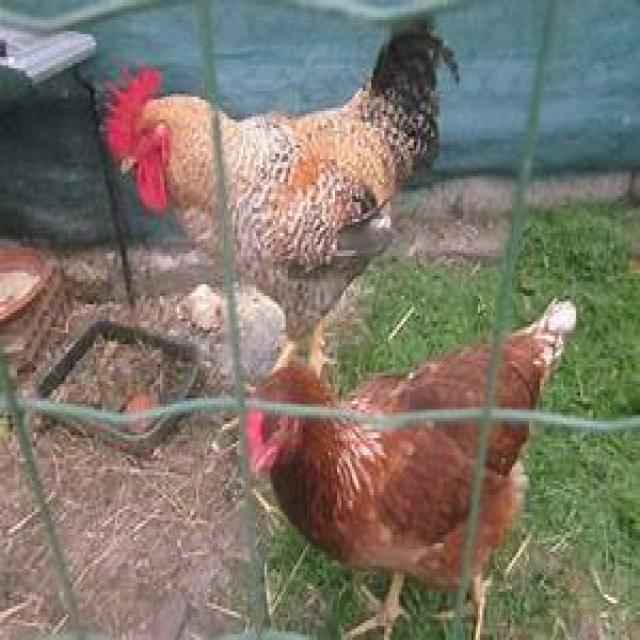hen: (98, 31, 459, 364), (250, 304, 576, 640)
